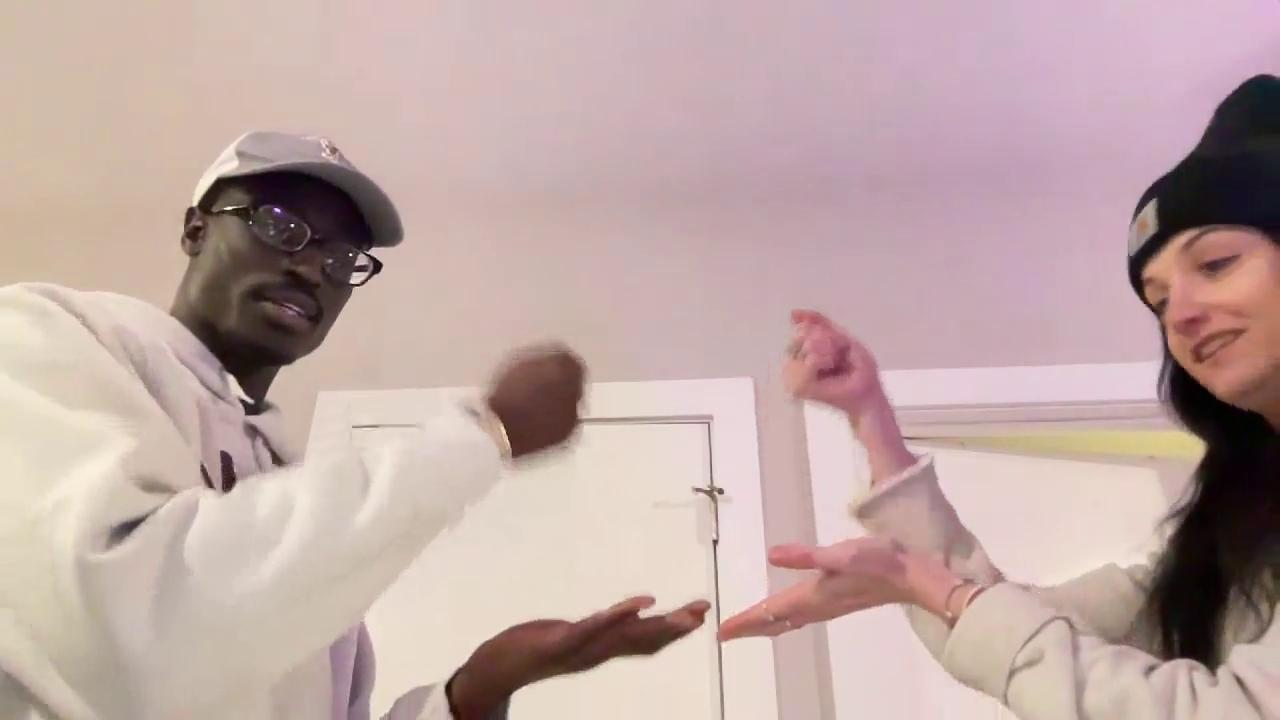Rock: (487, 347, 587, 459), (783, 307, 875, 408)
